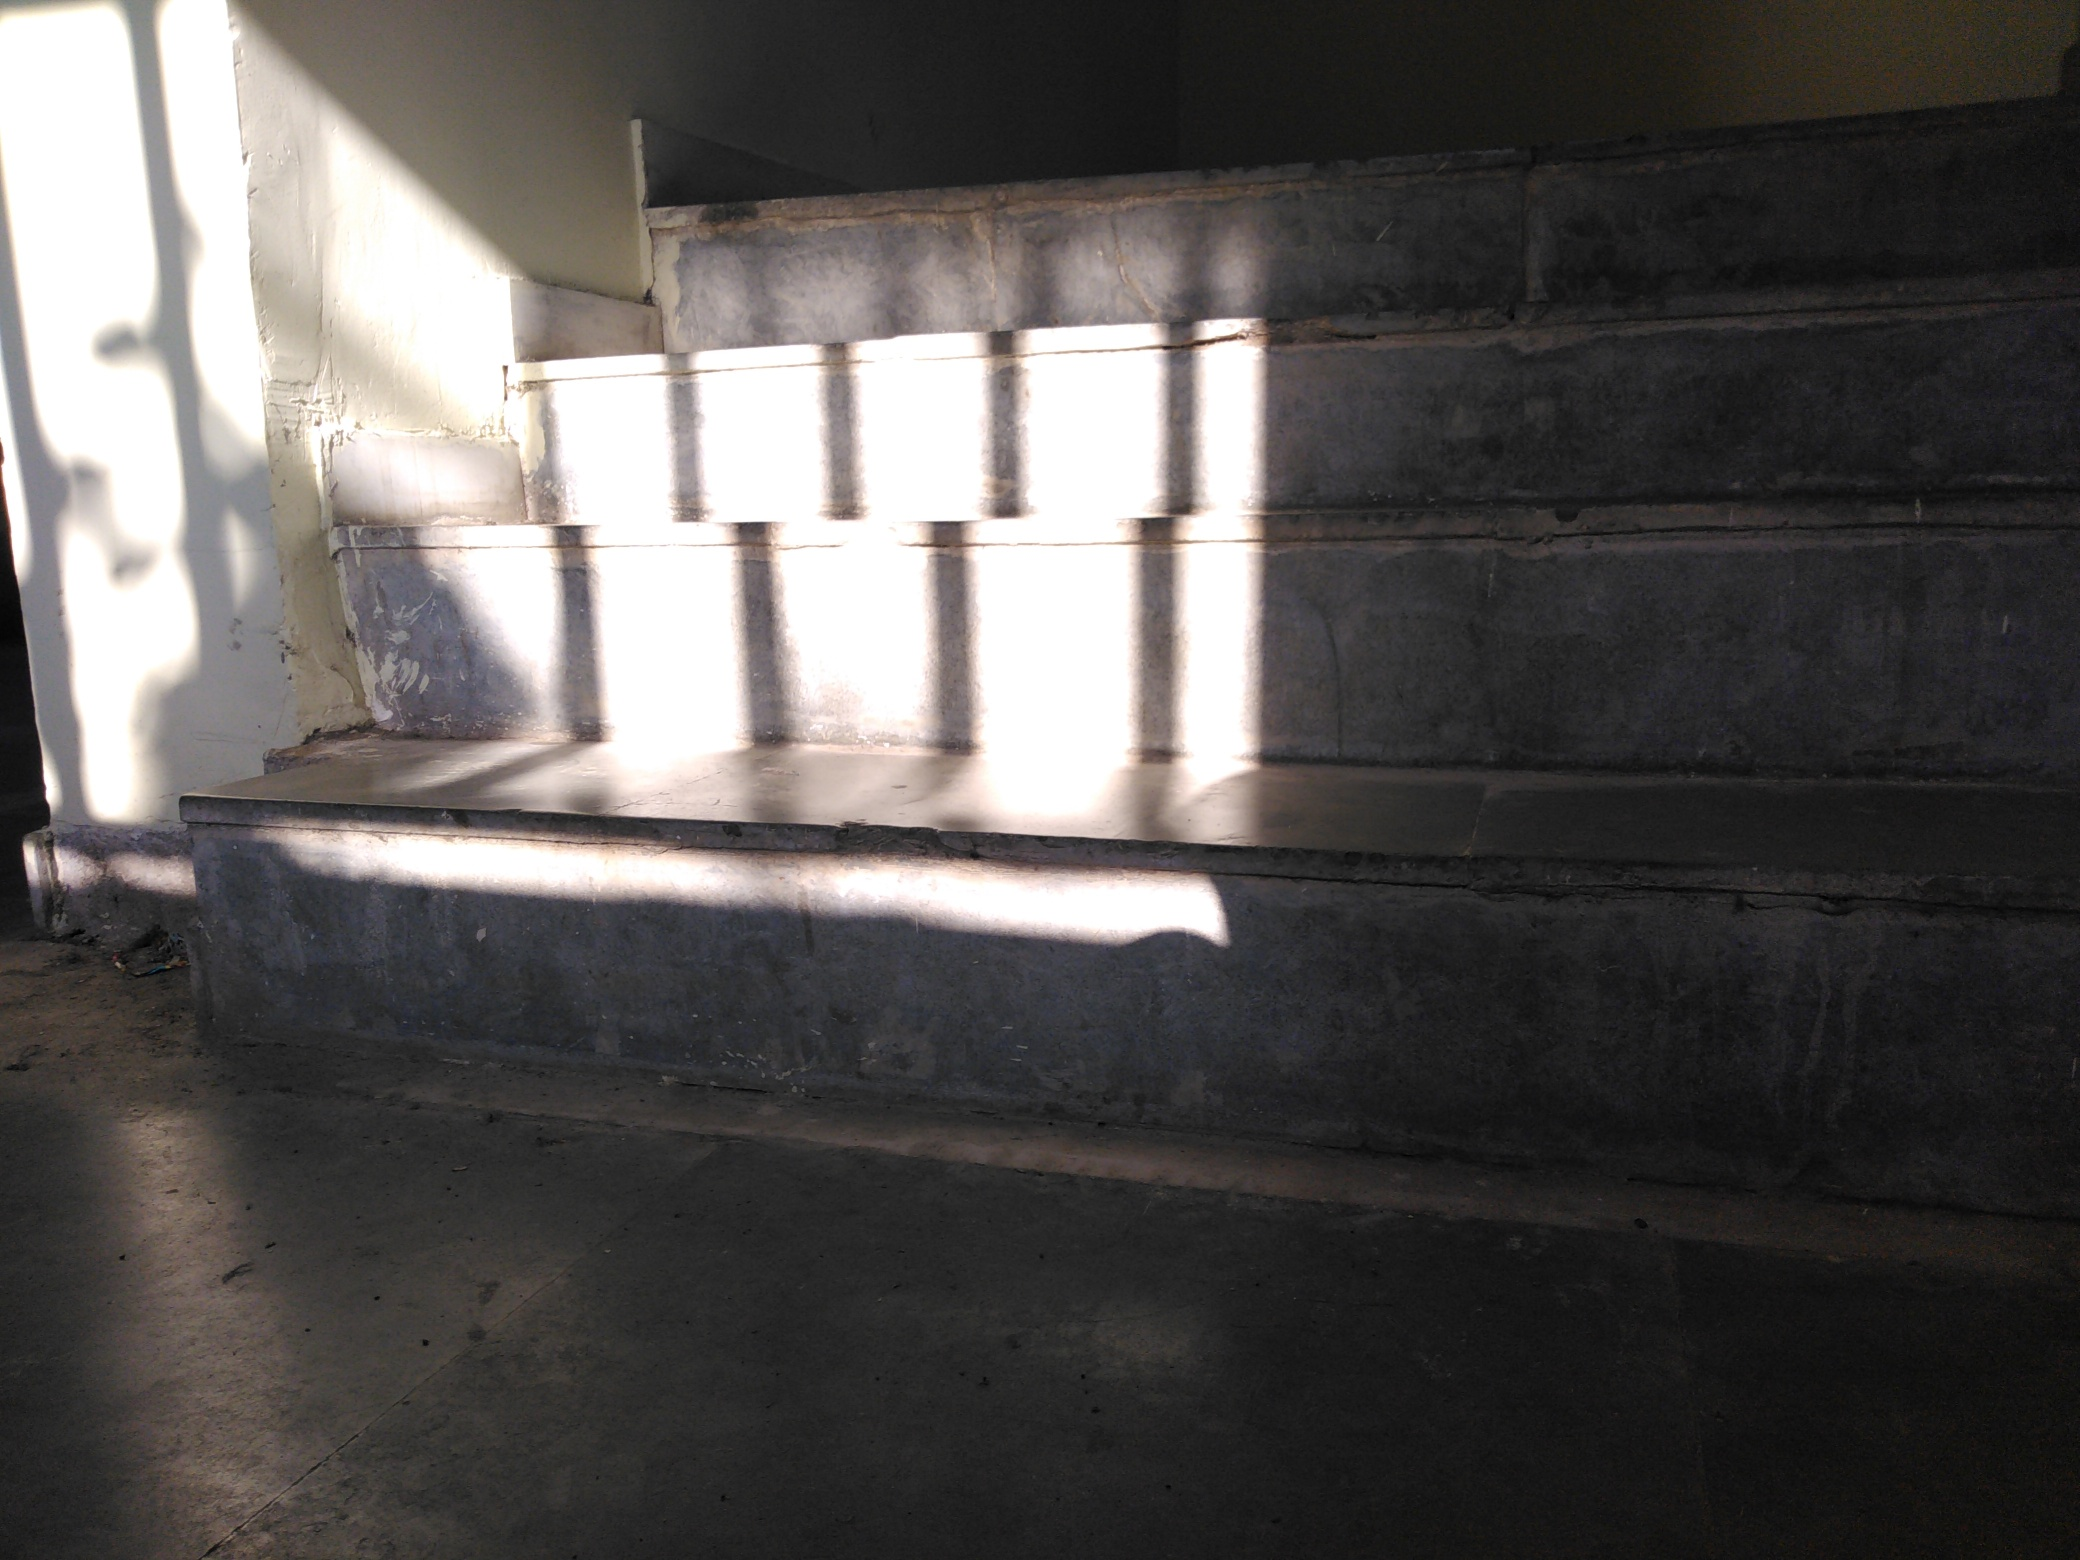stairs_up: (201, 95, 2055, 1067)
